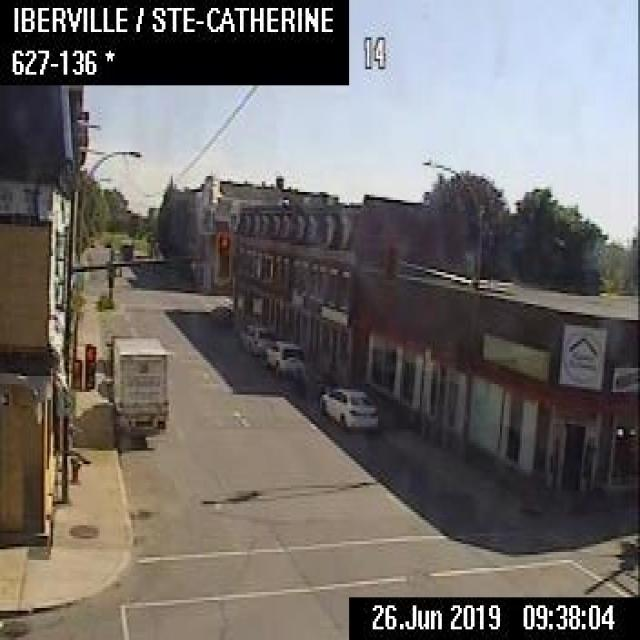vehicle: (111, 335, 168, 432), (318, 384, 376, 427), (263, 338, 304, 379), (238, 320, 272, 352), (105, 333, 131, 372), (119, 238, 132, 258)
